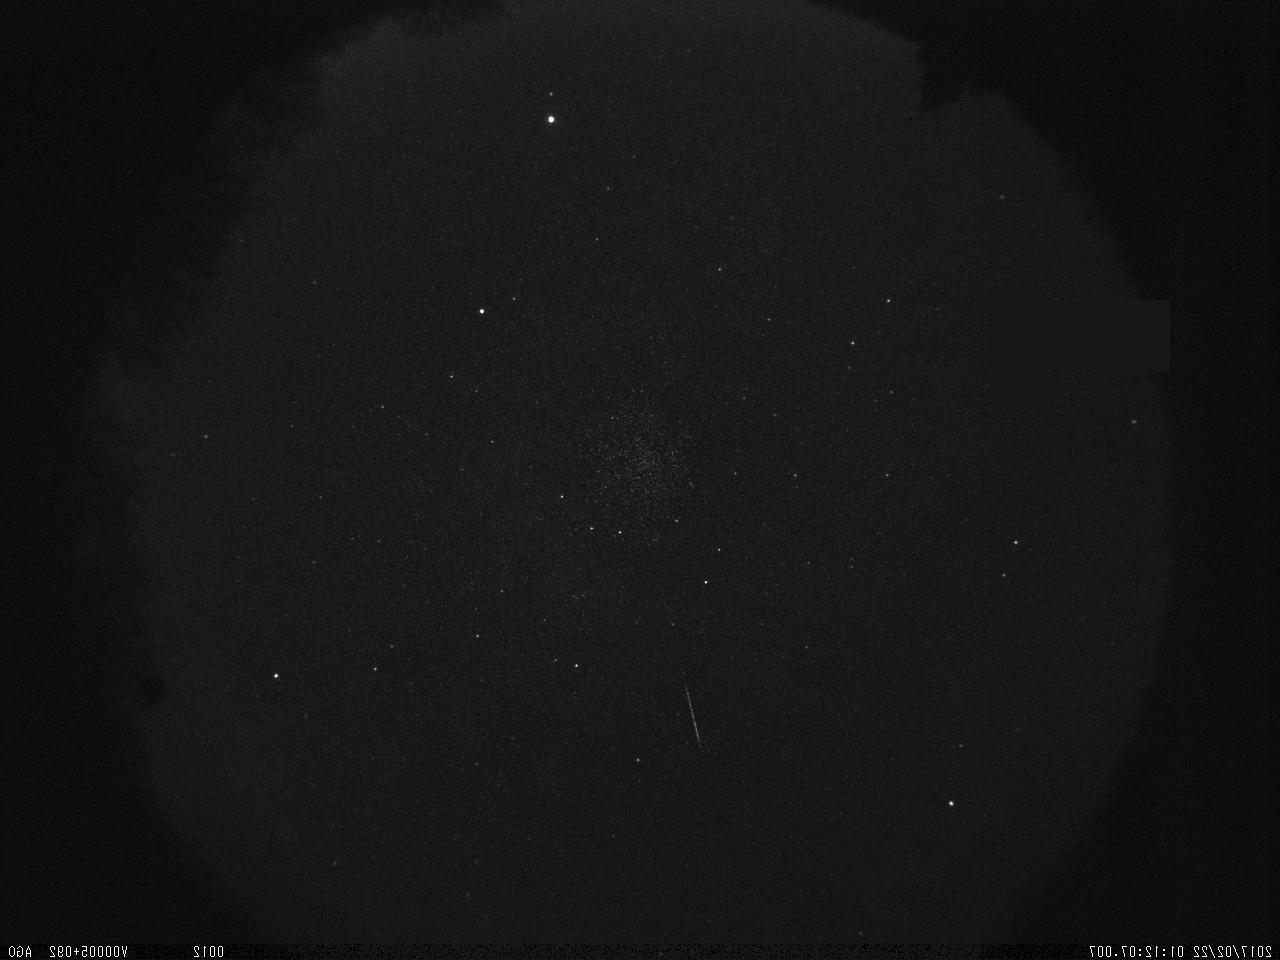meteor: (674, 650, 708, 753)
